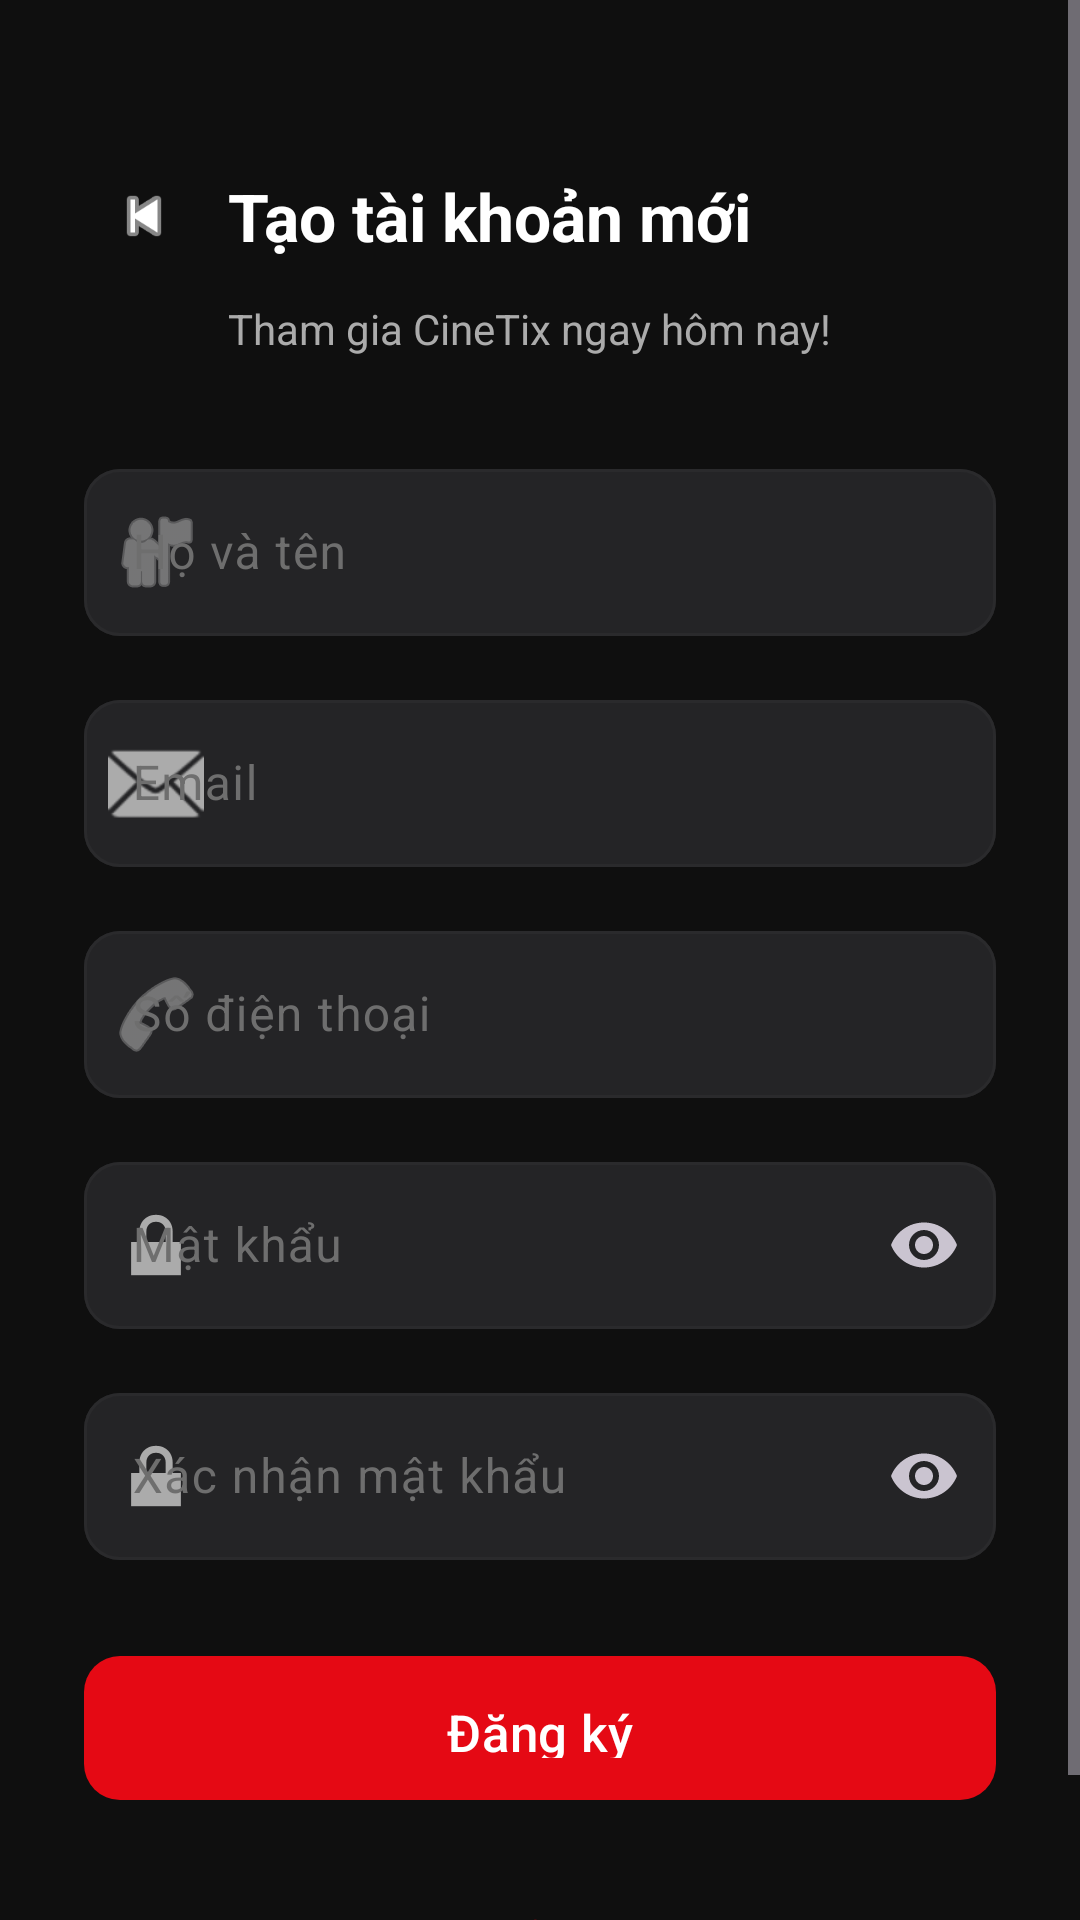

Icons on this 1080 x 1920 Android screen, each with the point to tap as (x=x, y=y):
Quay lại: (x=144, y=216)
